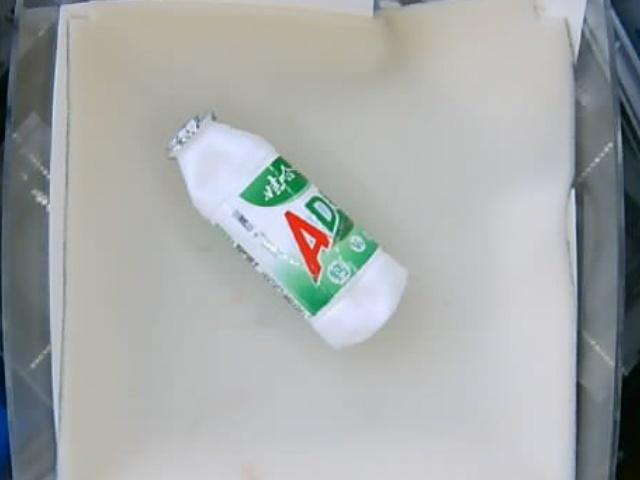Bottle: (169, 110, 407, 350)
